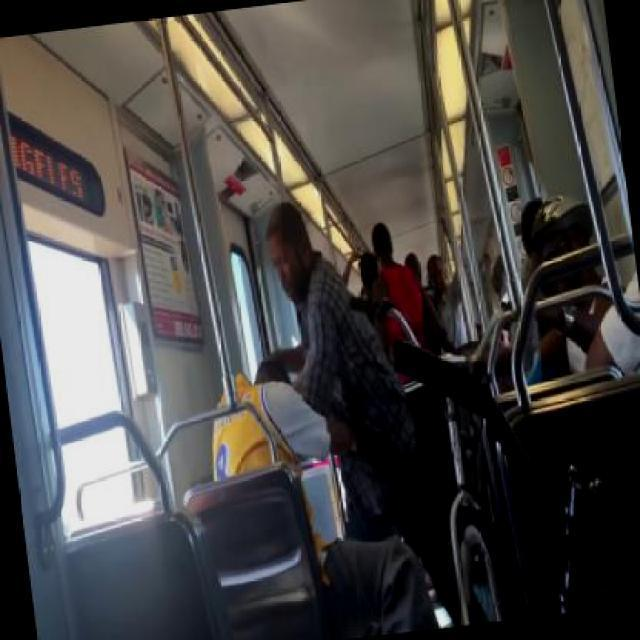fight: (180, 188, 414, 477)
